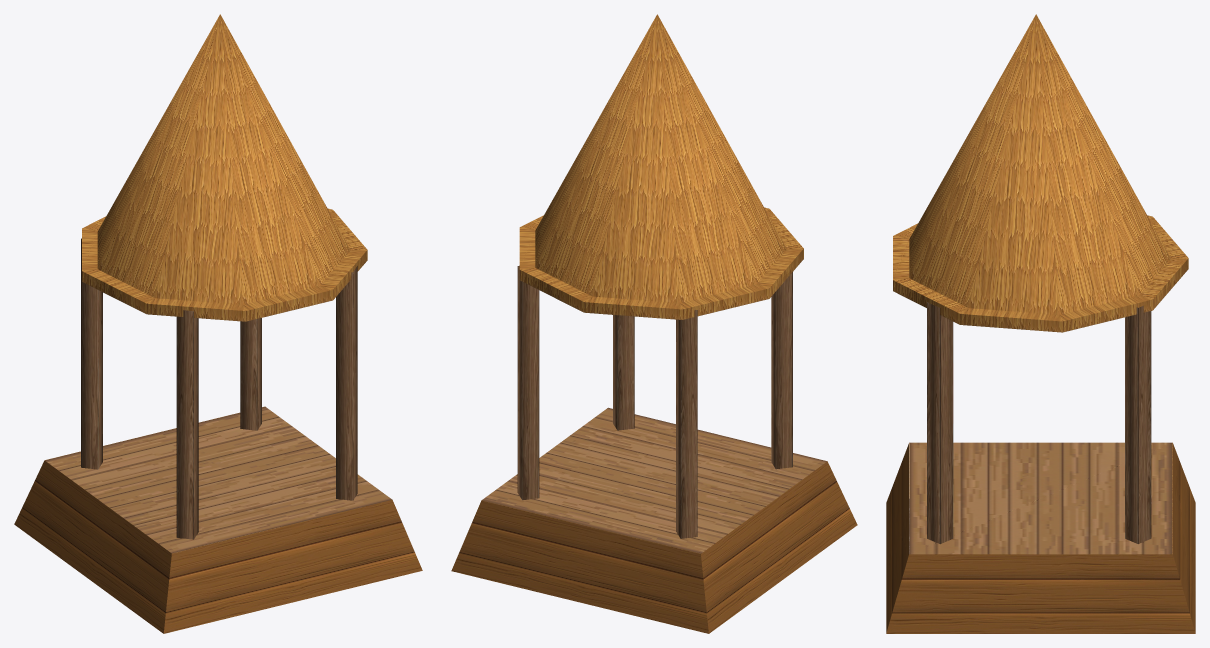
3 renders of one model, left to right at view 1: azimuth 30°, elevation 25°; view 2: azimuth 150°, elevation 25°; view 3: azimuth 270°, elevation 25°, orthographic. The views are drawn at different scales.
Visible parts, largest first — view 1: defaultMaterial.028; view 2: defaultMaterial.028; view 3: defaultMaterial.028.
Boxes of the visible parts, left/top/right/bottom form: defaultMaterial.028: left=14, top=14, right=422, bottom=633; defaultMaterial.028: left=451, top=14, right=857, bottom=633; defaultMaterial.028: left=886, top=14, right=1195, bottom=633.
Bounding box in the file's own units: 202 × 399 × 202.
Materials: 1 (1 with a texture image).
